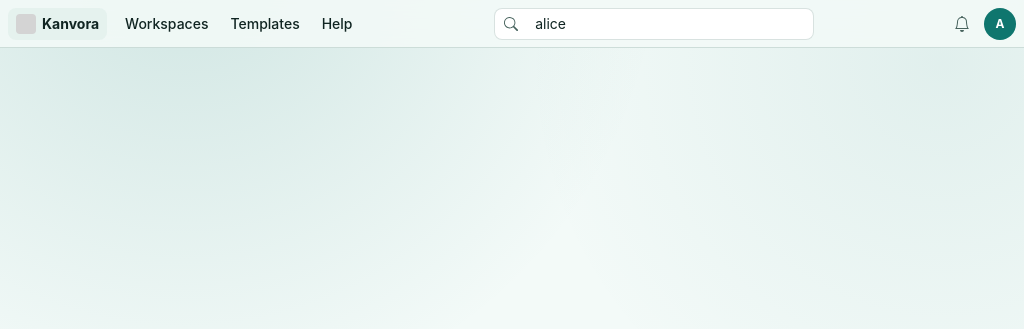
Test: workspace-scoped navbar directory search › clears previous results and loading when workspace scope is removed
Focus the field with placeholder "Search..." at (654, 24), box x1=494 y1=8 x2=814 y2=40
Wait 250 ms
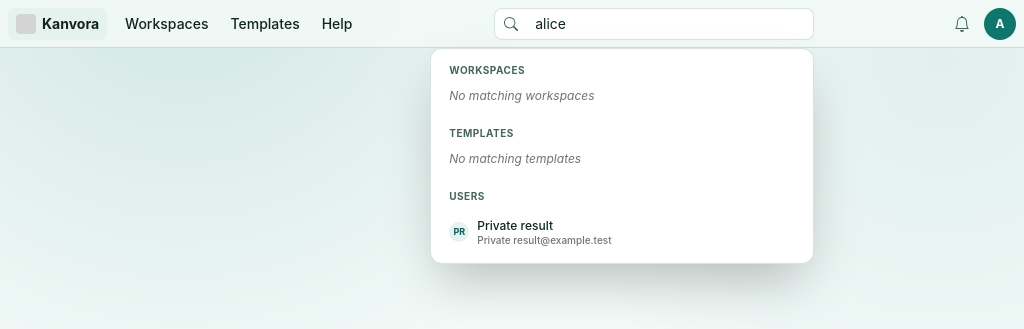
Expected: the text "Private result" is shown, x1=477 y1=218 x2=553 y2=232
